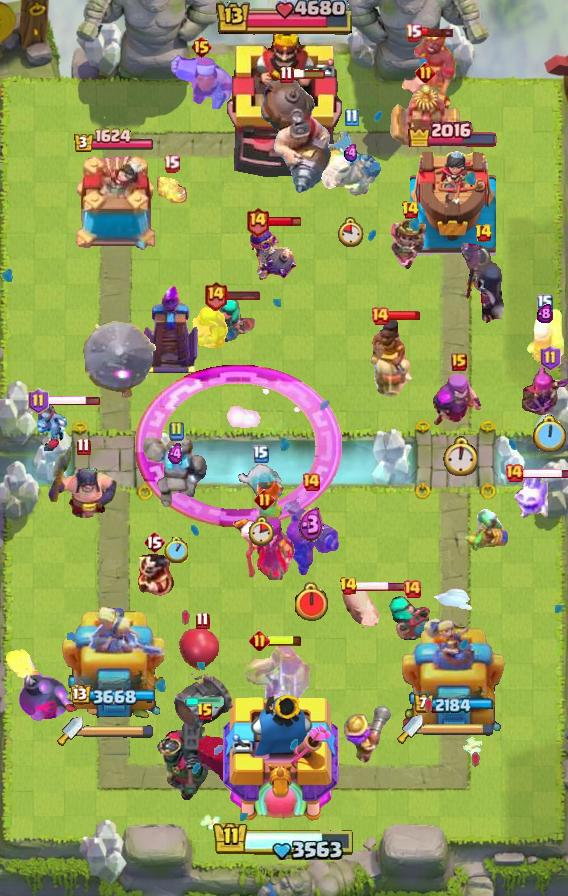archer-evolution: (518, 365, 568, 417)
bar: (46, 394, 101, 407), (522, 467, 568, 480), (355, 581, 409, 592), (267, 634, 303, 647), (267, 215, 302, 228), (225, 289, 261, 301), (291, 68, 327, 80), (419, 26, 455, 38), (387, 310, 421, 321)
bar-level: (203, 280, 228, 311), (245, 206, 270, 237), (190, 35, 213, 59), (28, 388, 49, 414), (540, 345, 561, 371), (143, 530, 165, 554), (249, 630, 270, 651), (254, 489, 275, 510), (415, 62, 436, 83), (402, 579, 422, 599), (301, 472, 321, 492), (504, 463, 524, 483), (370, 306, 390, 326), (339, 576, 358, 596), (474, 223, 493, 243), (401, 200, 420, 220), (196, 702, 214, 722), (163, 154, 180, 173), (405, 23, 422, 42), (168, 421, 184, 441), (253, 445, 269, 463), (451, 353, 467, 371), (537, 294, 553, 312), (195, 611, 210, 630), (76, 437, 91, 456), (344, 108, 359, 127), (279, 65, 294, 84)
bomb: (0, 647, 72, 721)
bomber-evolution: (248, 227, 298, 281)
clock: (293, 582, 330, 623), (442, 436, 477, 476), (533, 415, 568, 455), (248, 516, 274, 546), (338, 217, 364, 247), (164, 537, 188, 563)
dagger-duchess-tower: (60, 607, 168, 731), (401, 615, 506, 731)
dagger-duchess-tower-bar: (83, 724, 155, 738), (423, 722, 495, 736)
electro-wizard: (133, 552, 175, 600)
elixir: (298, 507, 324, 543), (168, 443, 184, 465), (343, 144, 360, 162), (537, 304, 553, 323)
executioner: (48, 446, 118, 522)
firecracker: (524, 306, 566, 364)
firecracker-evolution: (281, 497, 341, 577)
goblin: (189, 301, 229, 351)
golemite: (139, 432, 213, 514)
hog: (340, 582, 382, 628)
ice-spirit: (237, 461, 285, 501)
ice-spirit-evolution: (511, 469, 551, 521)
king-tower: (224, 29, 344, 181), (223, 689, 345, 826)
king-tower-bar: (212, 821, 356, 863), (214, 0, 354, 37)
lava-pup: (154, 177, 188, 209)
little-prince: (386, 216, 435, 278)
lumberjack: (168, 52, 234, 116)
minion: (29, 405, 73, 451)
mother-witch: (432, 372, 486, 430)
musketeer: (341, 703, 391, 767)
night-witch: (458, 243, 508, 327)
queen-tower: (410, 145, 496, 256), (68, 156, 160, 256)
ram-rider: (368, 317, 414, 397)
rascal-girl: (389, 596, 435, 646), (209, 297, 255, 343)
spear-goblin: (462, 508, 512, 552)
tesla: (390, 81, 460, 149)
tower-bar: (407, 118, 499, 147), (73, 128, 155, 154), (71, 685, 158, 707), (413, 694, 493, 715)
valkyrie: (252, 476, 290, 528)
witch: (232, 514, 296, 580)
